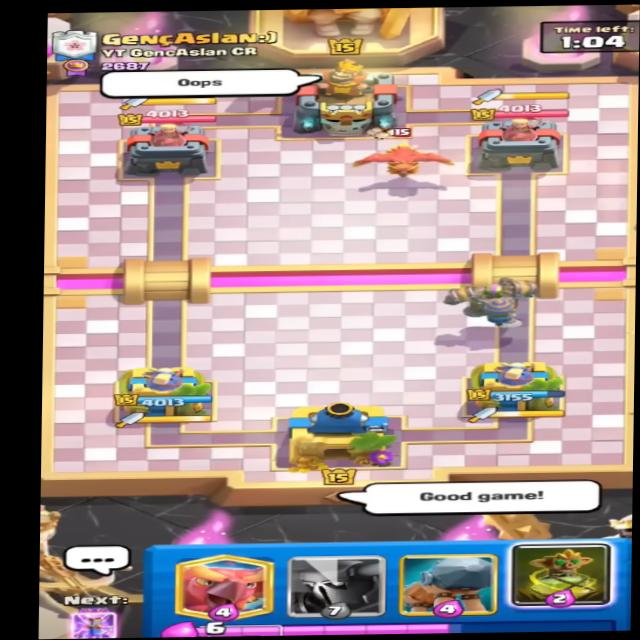Pheonix: (342, 122, 477, 178)
